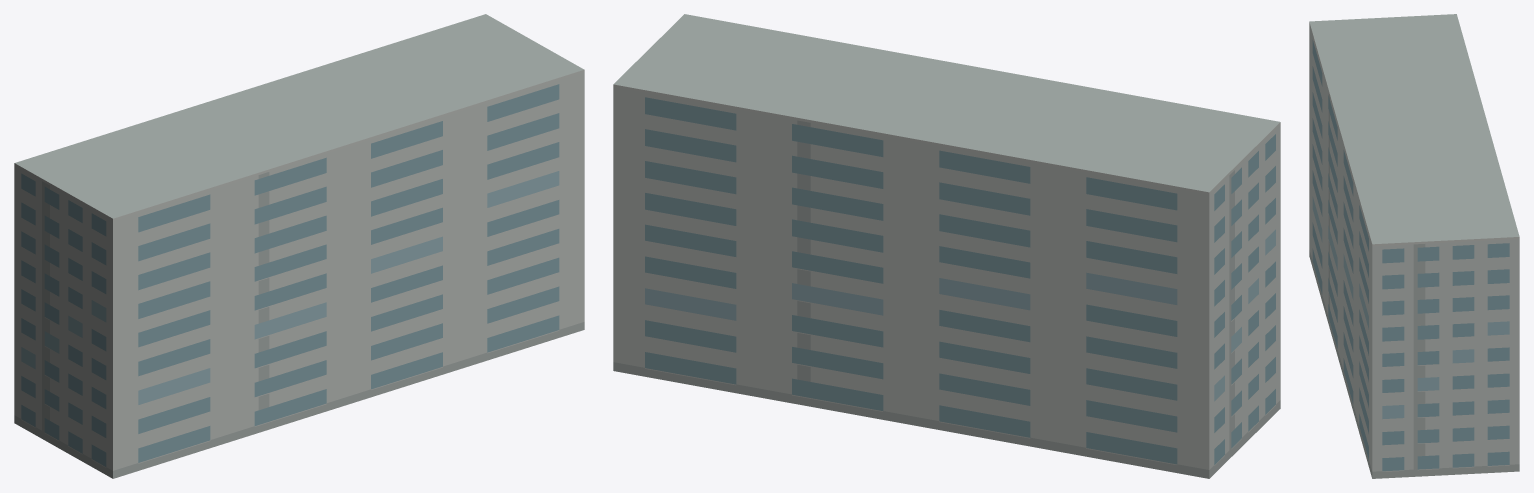
Rendered from residential-da29bde9-802b-42d4-91c5-3d06184aef43.glb.
The picture shows the model from 3 angles, left to right: view 1: azimuth 30°, elevation 25°; view 2: azimuth 150°, elevation 25°; view 3: azimuth 270°, elevation 25°; orthographic projection. The views are drawn at different scales.
Visible parts, largest first — view 1: residential-da29bde9-802b-42d4-91c5-3d06184aef43.tmp; view 2: residential-da29bde9-802b-42d4-91c5-3d06184aef43.tmp; view 3: residential-da29bde9-802b-42d4-91c5-3d06184aef43.tmp.
Part boxes in pixels (x1,y1,x2,y2): residential-da29bde9-802b-42d4-91c5-3d06184aef43.tmp: (14,14,584,478); residential-da29bde9-802b-42d4-91c5-3d06184aef43.tmp: (613,14,1280,478); residential-da29bde9-802b-42d4-91c5-3d06184aef43.tmp: (1309,14,1519,478).
Size of the model in its own units: 54.72 by 26 by 21.13.
